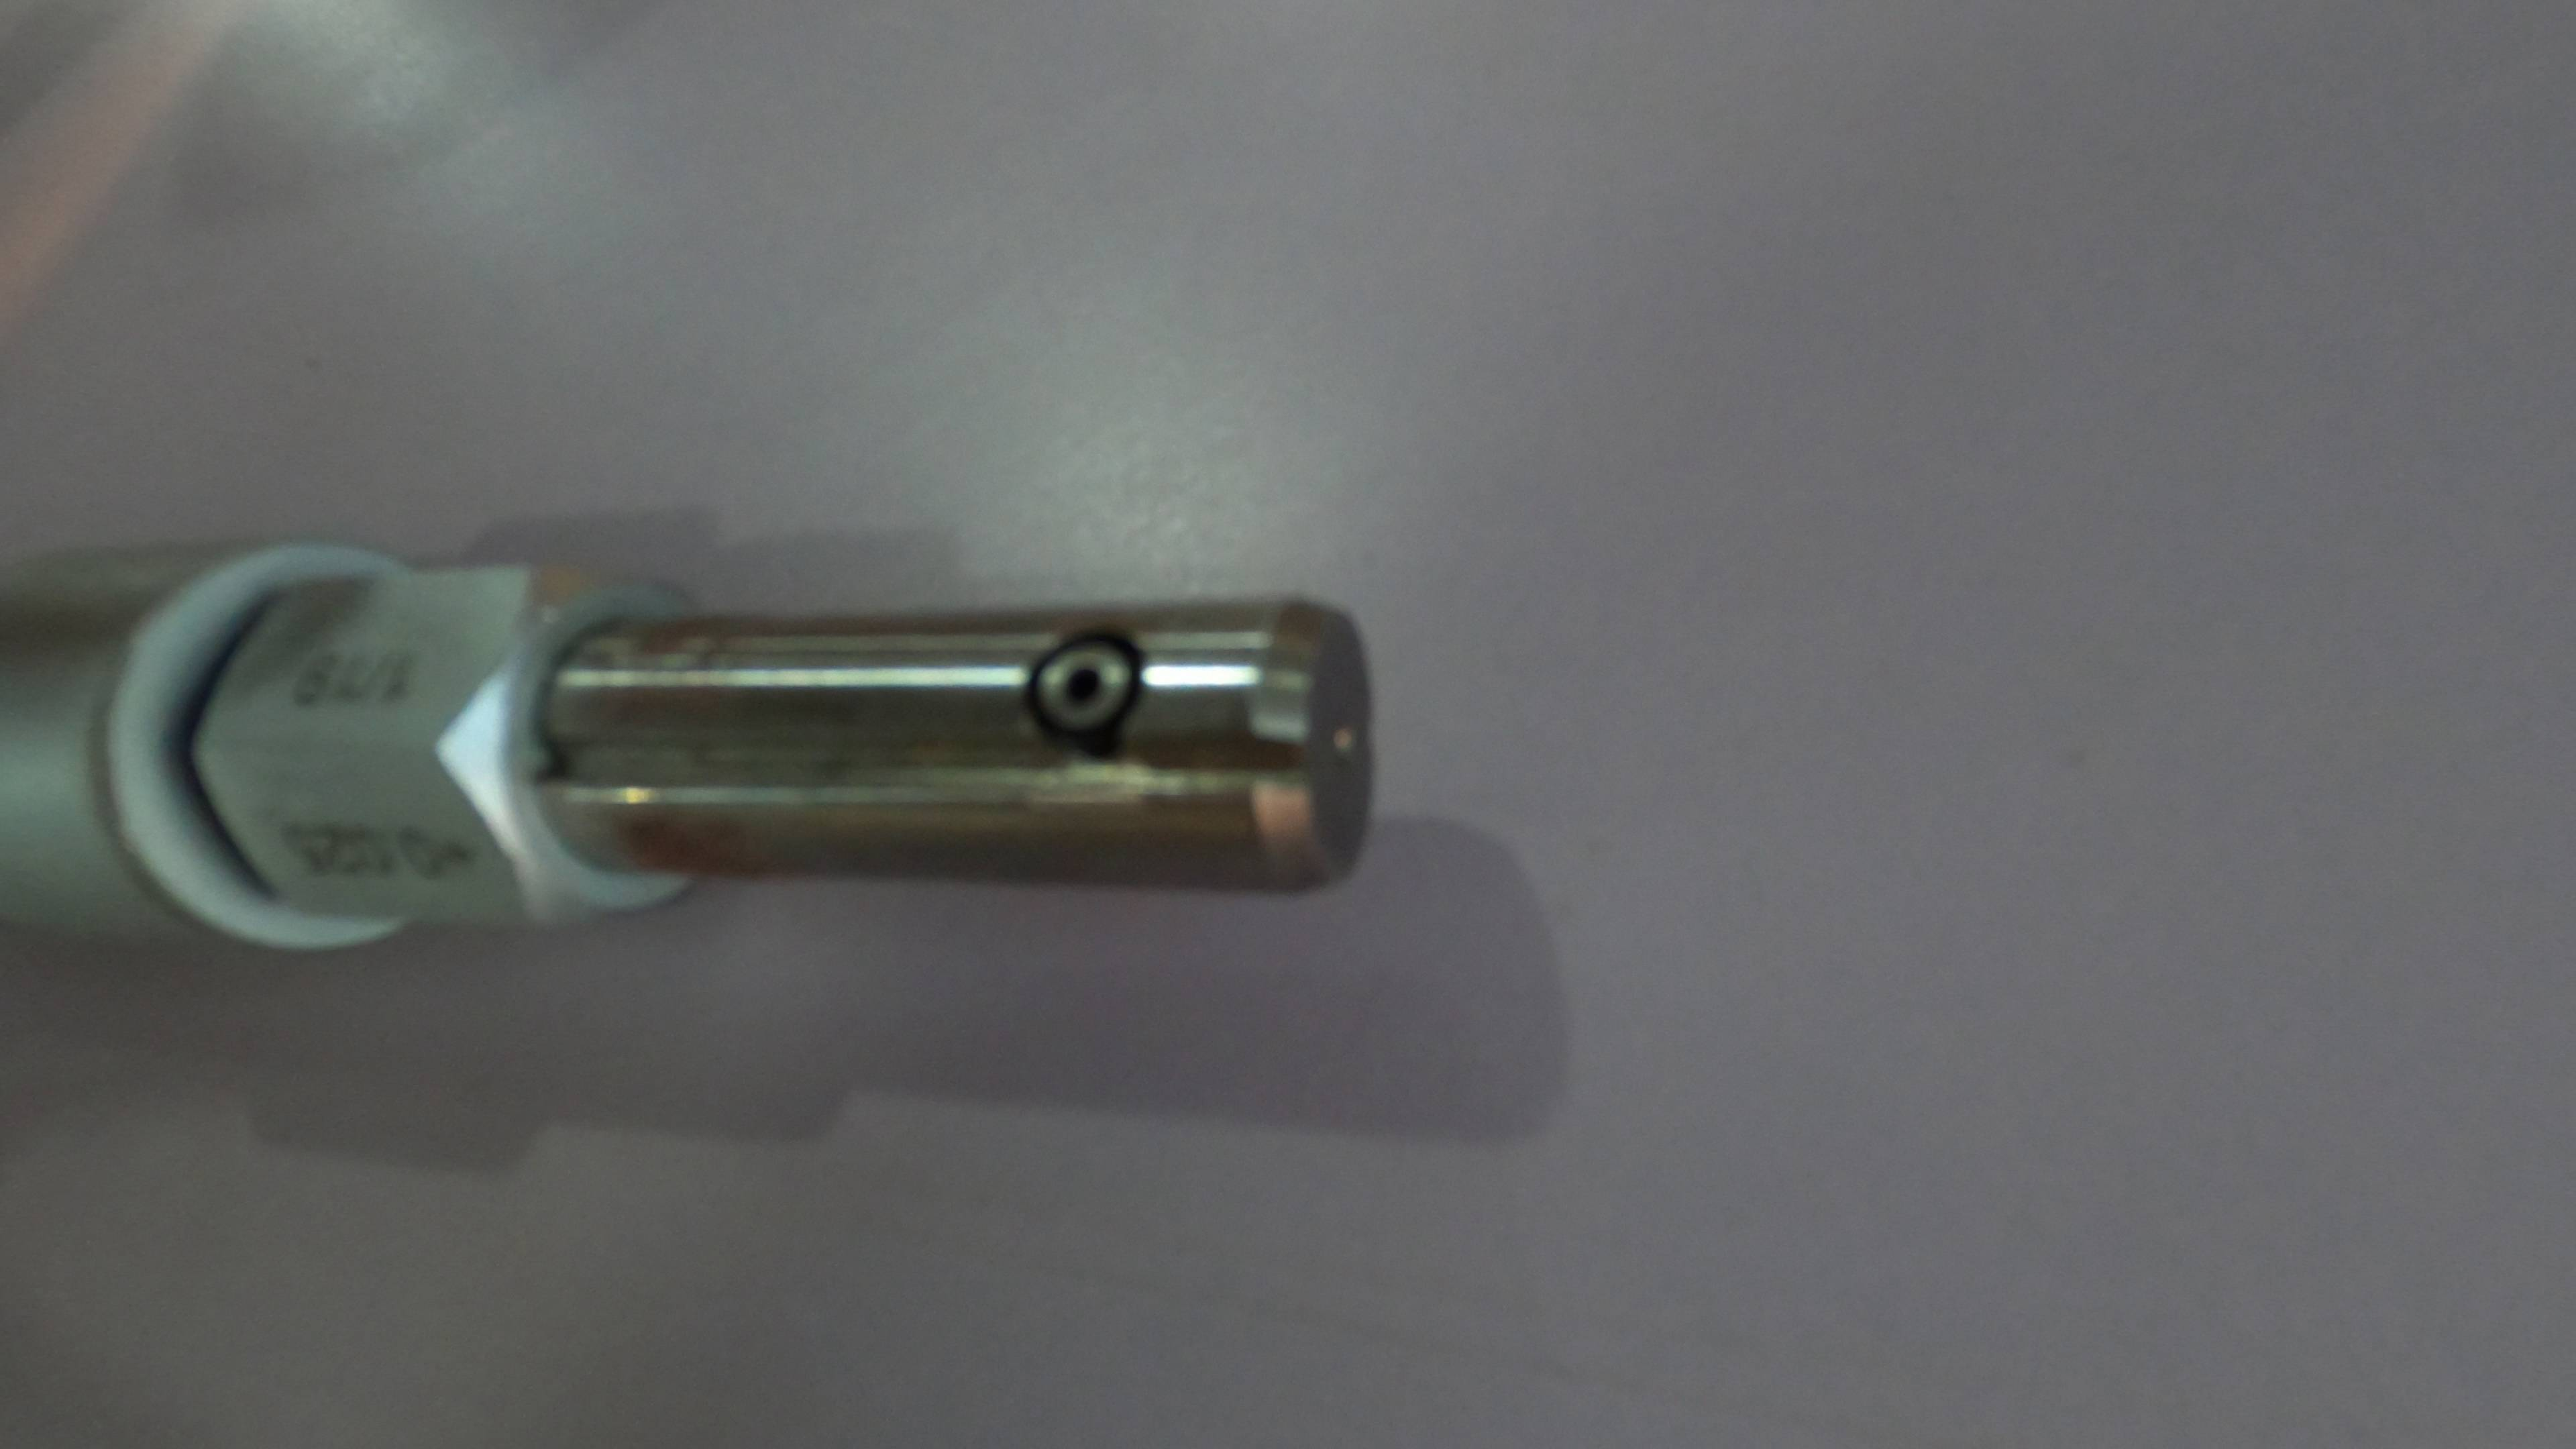air_gauge: (9, 541, 1380, 964)
